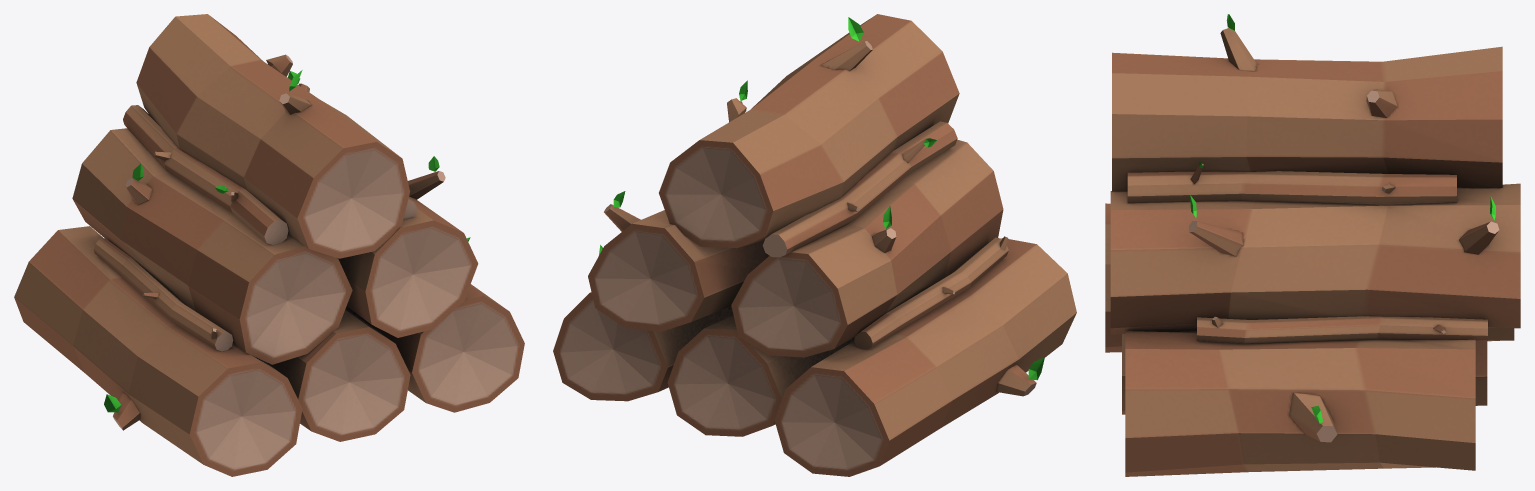
Rendered from Wood.obj.
3 views of the same model, side by side, from view 1: azimuth 30°, elevation 25°; view 2: azimuth 150°, elevation 25°; view 3: azimuth 270°, elevation 25° (orthographic). The views are drawn at different scales.
Visible parts, largest first — view 1: woodPile; view 2: woodPile; view 3: woodPile.
Boxes of the visible parts, x1,y1,x2,y2 form: woodPile: (14,14,524,476); woodPile: (553,14,1076,476); woodPile: (1105,14,1520,476).
Size of the model in its own units: 71.2 by 58.12 by 56.31.
